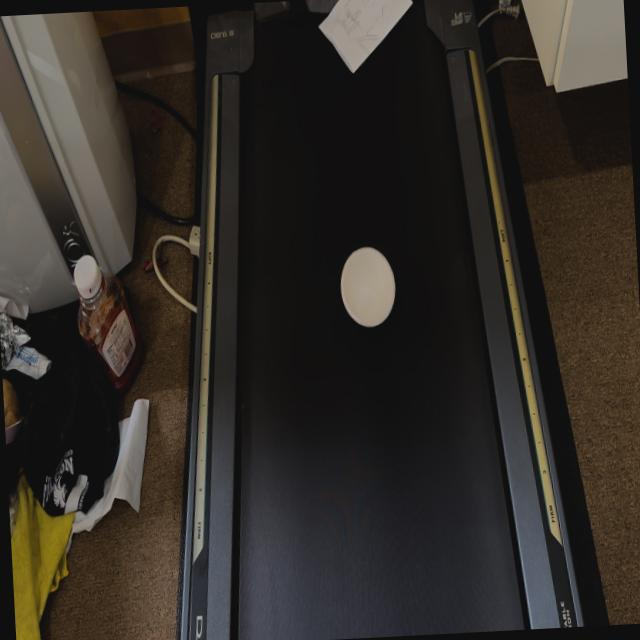Recycle: (313, 0, 417, 78), (338, 244, 398, 330)
